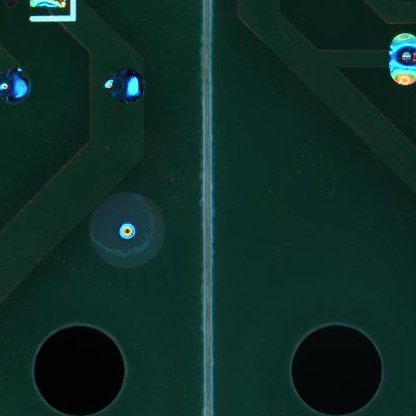spot: (388, 32, 416, 89)
